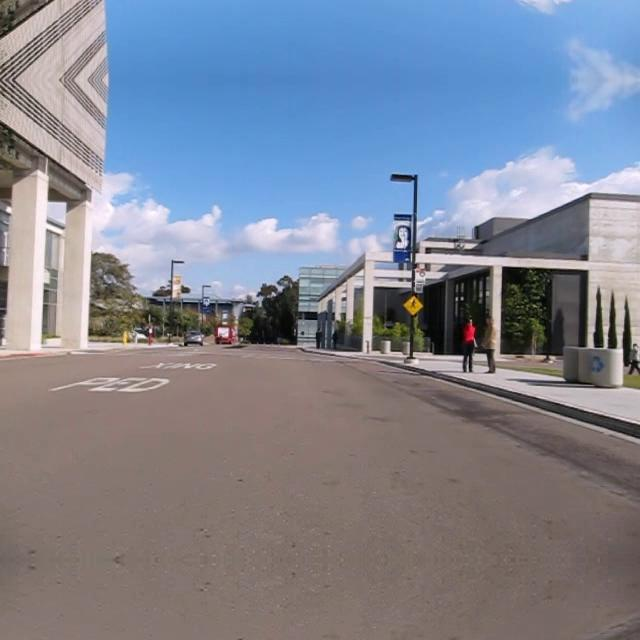pedestrianCrossing: (402, 294, 424, 316)
